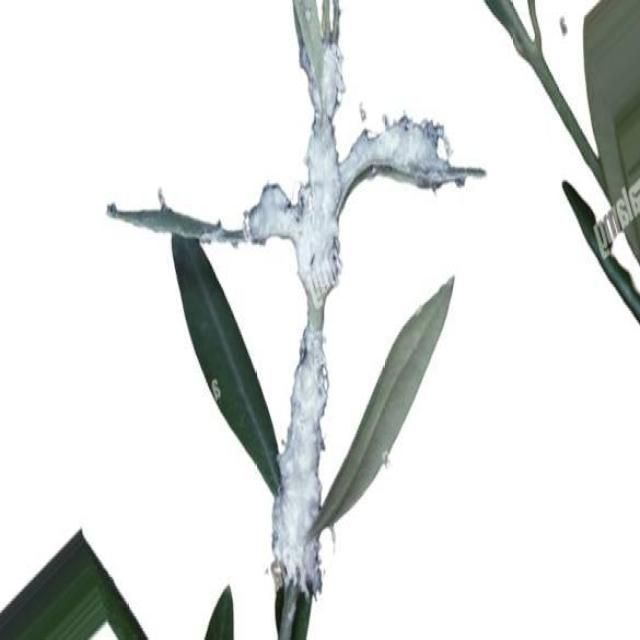Psyllid: (245, 42, 344, 617), (340, 113, 468, 209)
